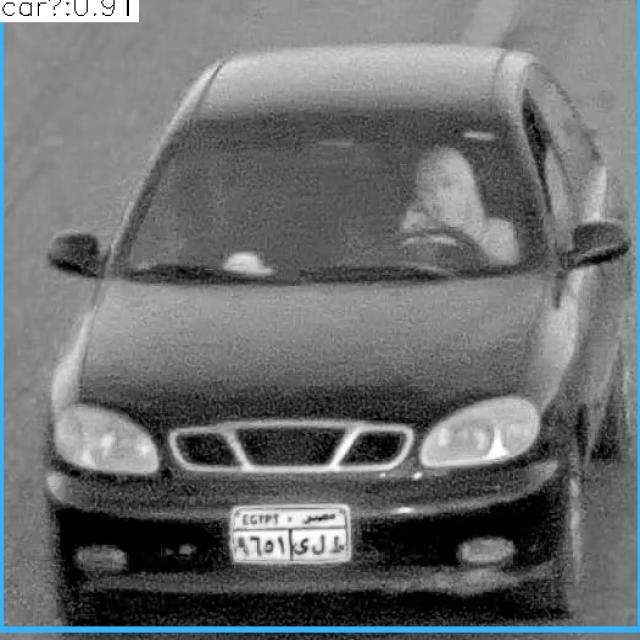windshield: (124, 125, 545, 270)
